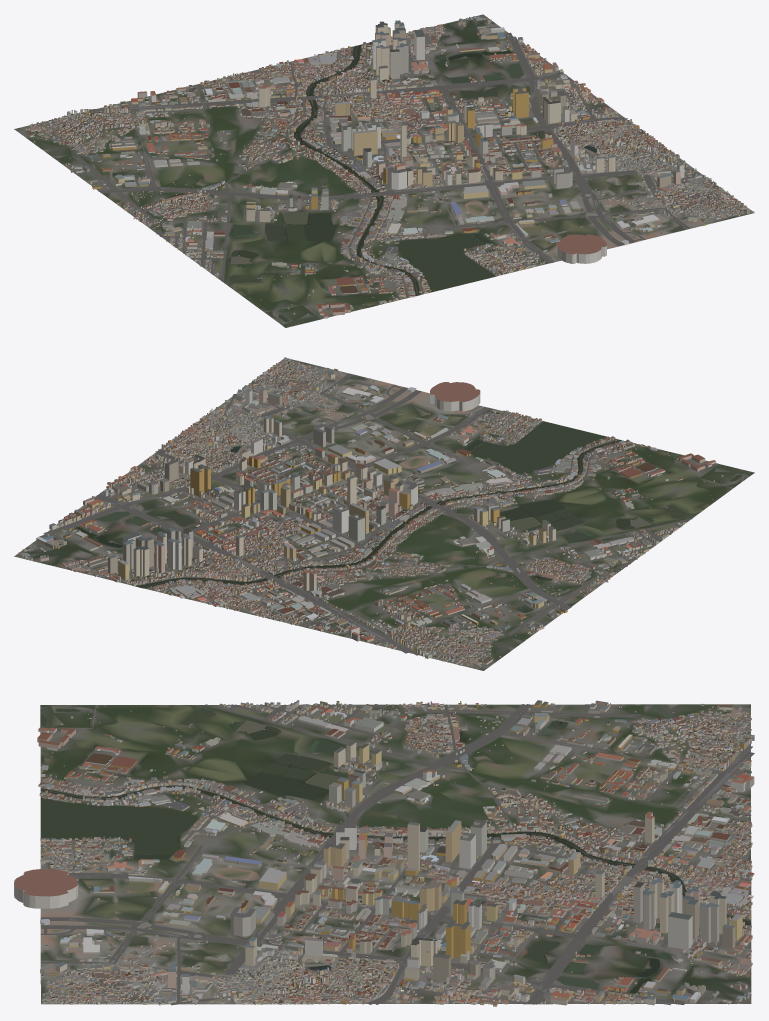
3 views of the same model, one above another, from view 1: azimuth 30°, elevation 25°; view 2: azimuth 150°, elevation 25°; view 3: azimuth 270°, elevation 25° (orthographic). The views are drawn at different scales.
Parts seen in each view (by area): view 1: buildings, ground, roads, water; view 2: buildings, ground, roads, water; view 3: buildings, ground, roads, water.
Part boxes in pixels (box(x1,y1,x2,y2)): buildings: box(24, 16, 754, 323); ground: box(14, 14, 754, 327); roads: box(24, 32, 708, 318); water: box(112, 44, 695, 327); buildings: box(18, 357, 747, 666); ground: box(14, 358, 754, 670); roads: box(38, 369, 733, 668); water: box(76, 398, 753, 612); buildings: box(14, 700, 754, 1006); ground: box(40, 704, 751, 1004); roads: box(40, 704, 754, 1005); water: box(40, 705, 751, 1001).
Size of the model in its own units: 2840 by 210 by 2924.
